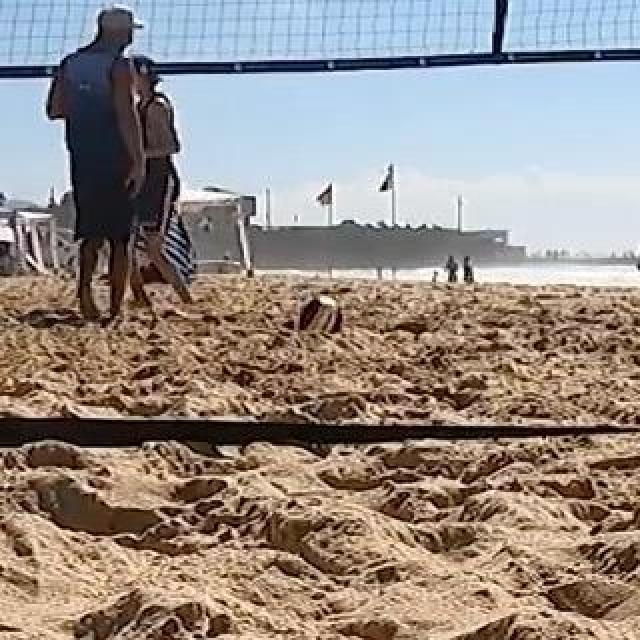volleyball: (296, 296, 344, 340)
